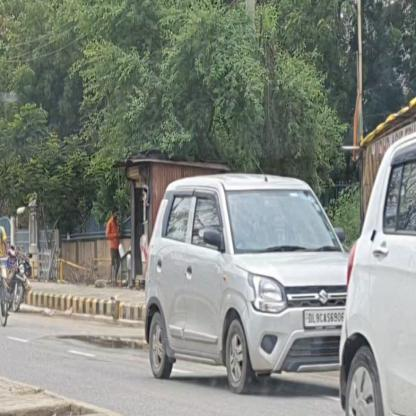car: (145, 172, 349, 392), (340, 130, 416, 415)
motorcycle: (6, 249, 32, 311)
